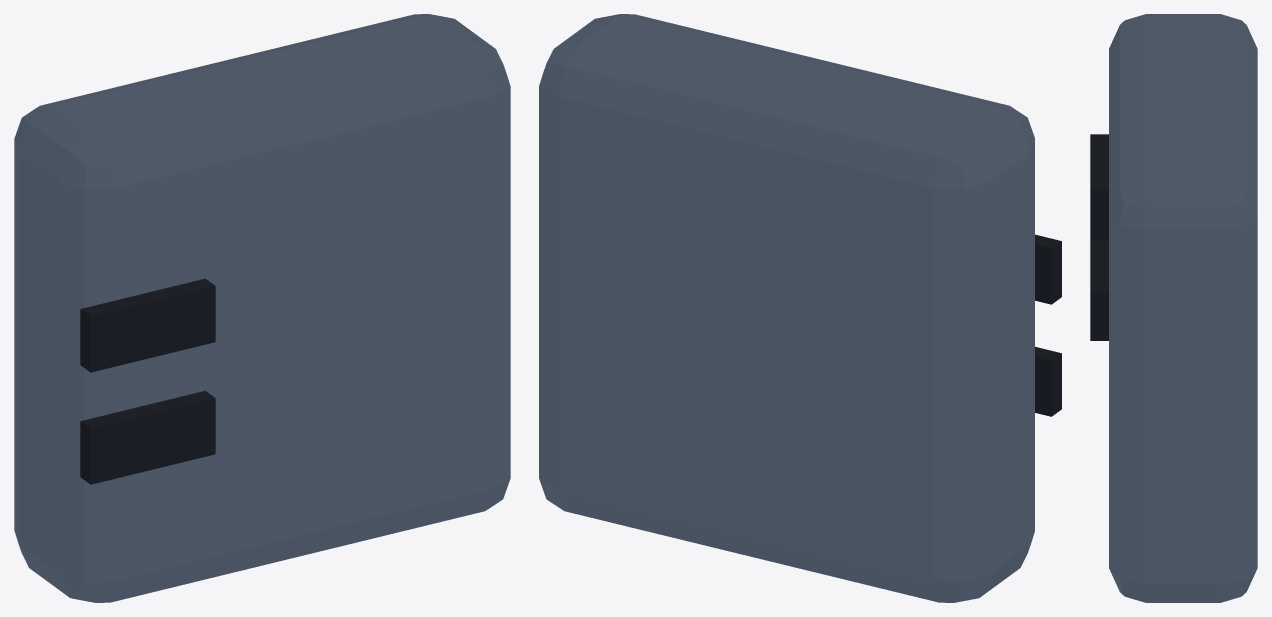
The model's file is toma.glb.
The picture shows the model from 3 angles, left to right: view 1: azimuth 30°, elevation 25°; view 2: azimuth 150°, elevation 25°; view 3: azimuth 270°, elevation 25°; orthographic projection. The views are drawn at different scales.
Parts seen in each view (by area): view 1: Cube.138, Cube.139, Cube.140; view 2: Cube.138, Cube.139, Cube.140; view 3: Cube.138, Cube.140, Cube.139.
Part boxes in pixels (box(x1,y1,x2,y2)): Cube.138: box(14, 14, 510, 602); Cube.139: box(80, 390, 215, 484); Cube.140: box(80, 278, 215, 372); Cube.138: box(539, 14, 1034, 602); Cube.139: box(1035, 346, 1061, 416); Cube.140: box(1035, 234, 1061, 304); Cube.138: box(1109, 14, 1257, 602); Cube.140: box(1090, 134, 1108, 239); Cube.139: box(1090, 240, 1108, 340).
Size of the model in its own units: 0.05 by 0.05 by 0.018.
